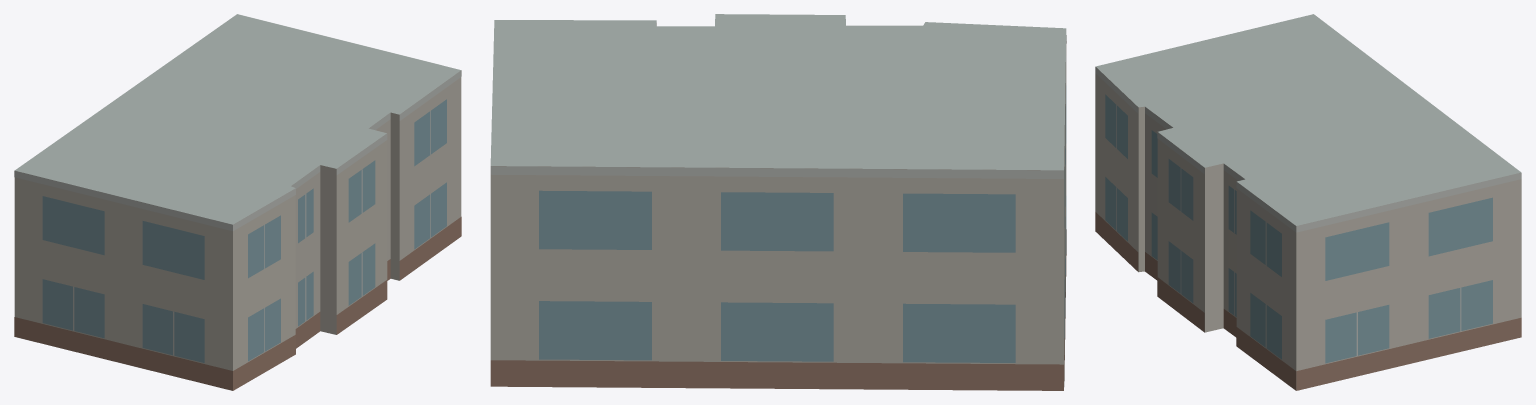
Rendered from survey-upis-32607762.glb.
The picture shows the model from 3 angles, left to right: view 1: azimuth 30°, elevation 25°; view 2: azimuth 150°, elevation 25°; view 3: azimuth 270°, elevation 25°; orthographic projection. The views are drawn at different scales.
Visible parts, largest first — view 1: survey-upis-32607762.tmp; view 2: survey-upis-32607762.tmp; view 3: survey-upis-32607762.tmp.
Boxes of the visible parts, left/top/right/bottom form: survey-upis-32607762.tmp: left=14, top=14, right=461, bottom=390; survey-upis-32607762.tmp: left=490, top=14, right=1066, bottom=390; survey-upis-32607762.tmp: left=1095, top=14, right=1521, bottom=390.
Bounding box in the file's own units: 16.84 × 6.1 × 14.3.
